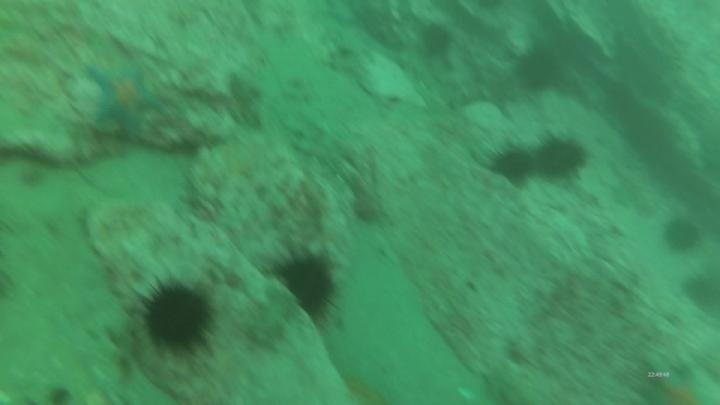echinus: (135, 276, 218, 357), (269, 245, 344, 324), (532, 132, 590, 183), (513, 45, 564, 93), (487, 143, 536, 187), (660, 215, 704, 255), (680, 270, 719, 313), (417, 21, 455, 60)
starfish: (83, 60, 166, 138), (636, 362, 719, 404)
